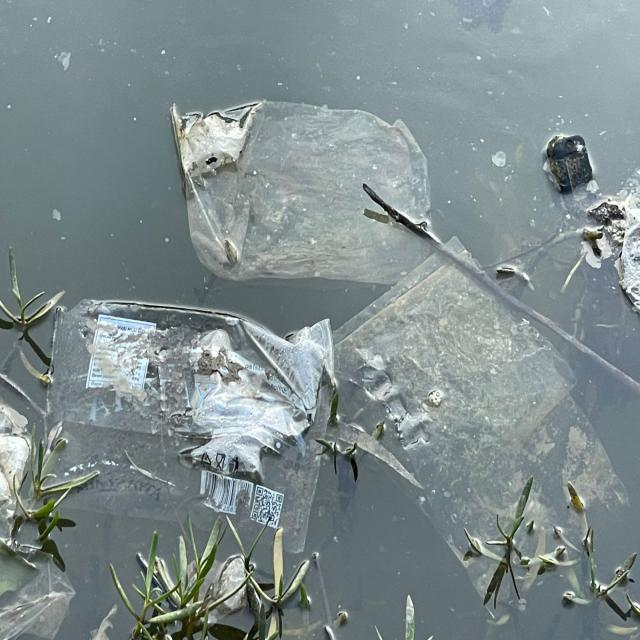Bungkus Makanan: (39, 293, 341, 556)
Kantong Plastik: (324, 232, 621, 605), (166, 96, 448, 285)
